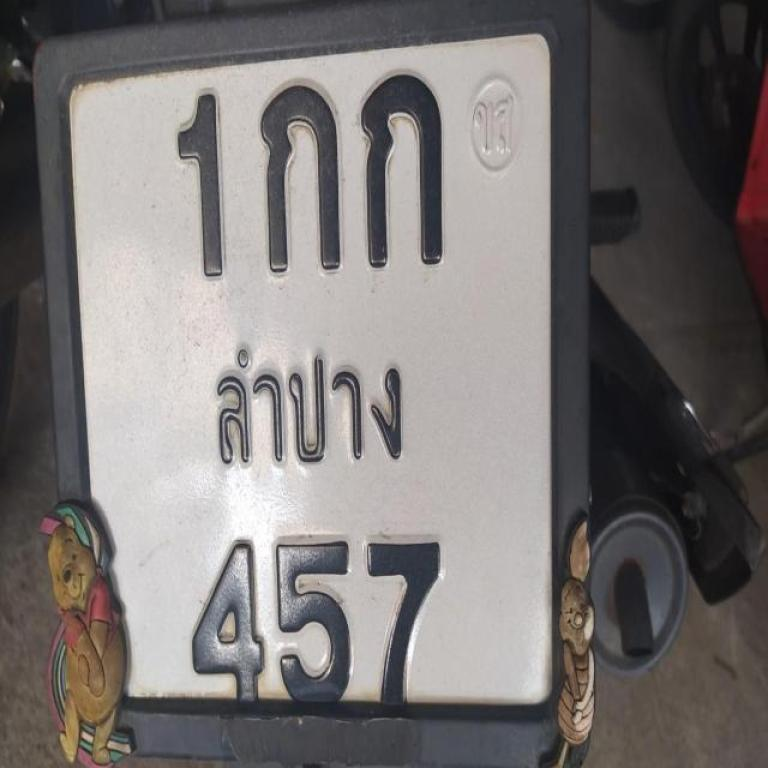license plate: (24, 2, 604, 768)
